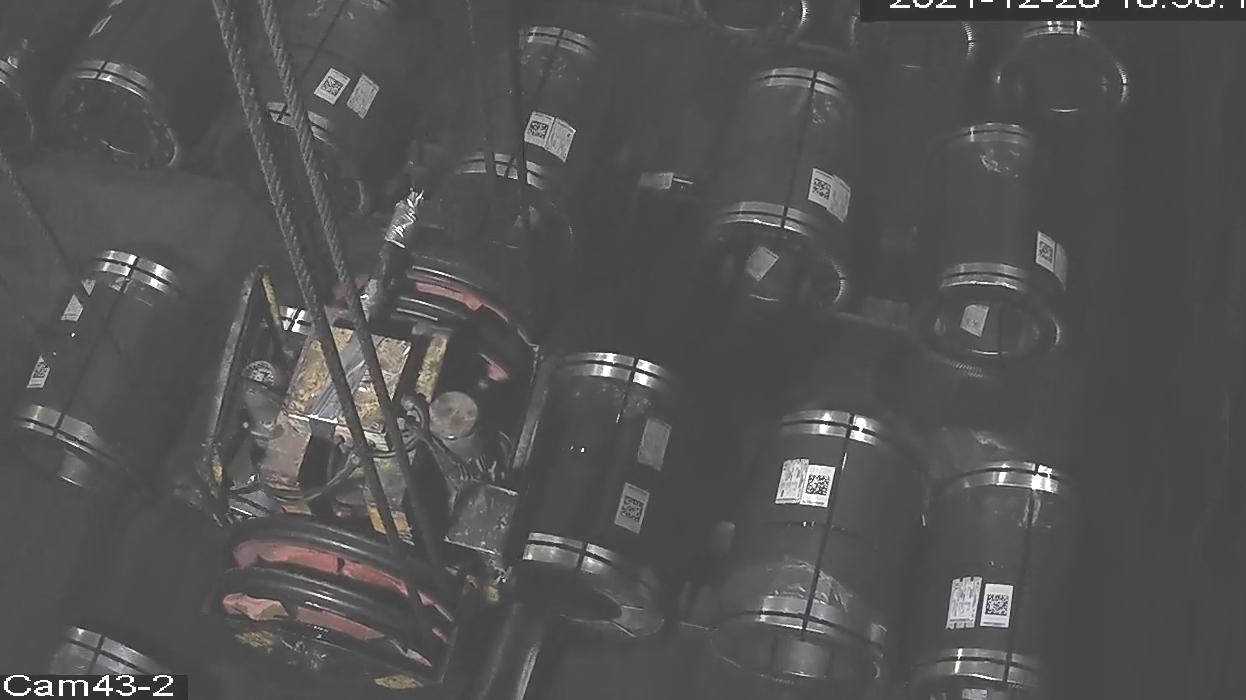data matrix: (619, 494, 647, 525), (985, 593, 1013, 620), (805, 472, 832, 499), (319, 75, 346, 100), (811, 177, 834, 202), (29, 360, 54, 383), (527, 119, 551, 142), (1038, 240, 1057, 266)
